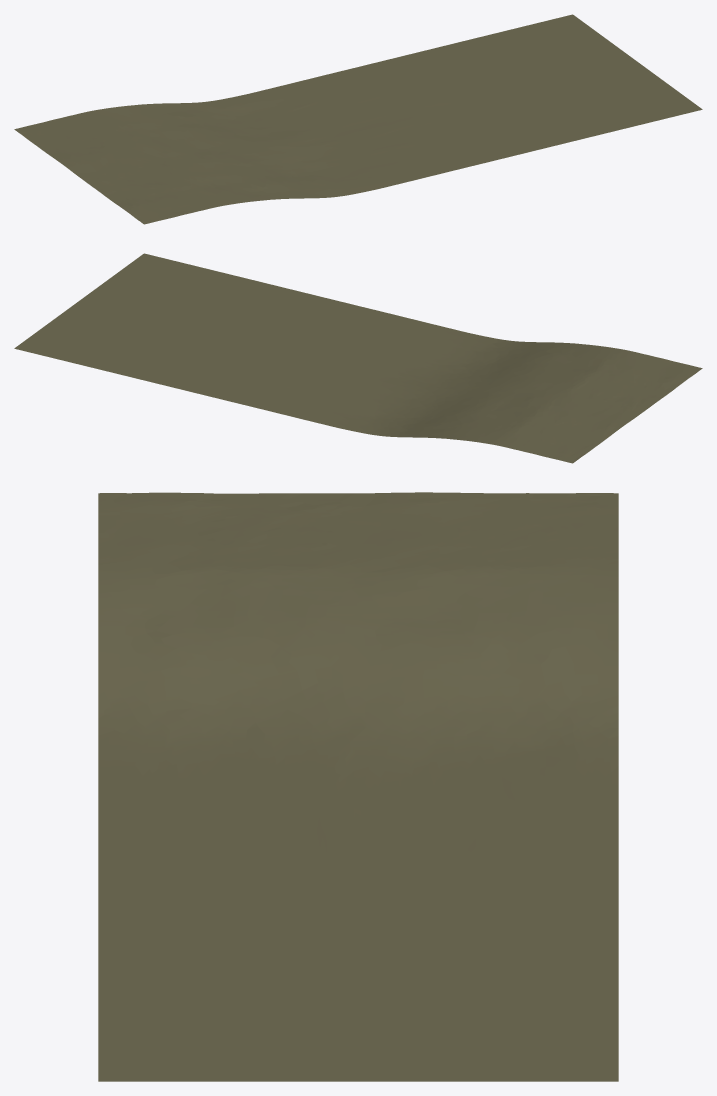
Rendered from shores_sand_H.fbx.
3 renders of one model, top to bottom at view 1: azimuth 30°, elevation 25°; view 2: azimuth 150°, elevation 25°; view 3: azimuth 270°, elevation 25°, orthographic. The views are drawn at different scales.
Visible parts, largest first — view 1: shores_sand_H; view 2: shores_sand_H; view 3: shores_sand_H.
Boxes of the visible parts, x1=… form: shores_sand_H: x1=14, y1=14, x2=702, y2=224; shores_sand_H: x1=14, y1=253, x2=702, y2=463; shores_sand_H: x1=98, y1=492, x2=618, y2=1081.
Size of the model in its own units: 3882 by 149 by 1565.
